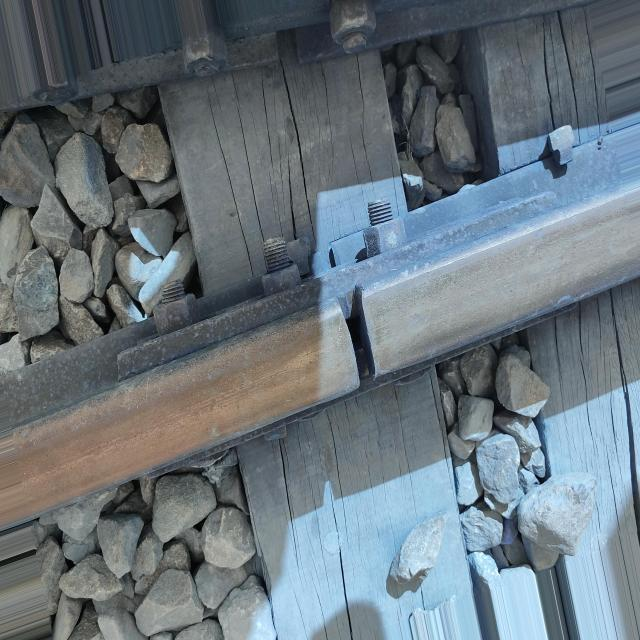Good Fasteners: (548, 125, 574, 166)
Good Joint: (117, 158, 573, 482)
